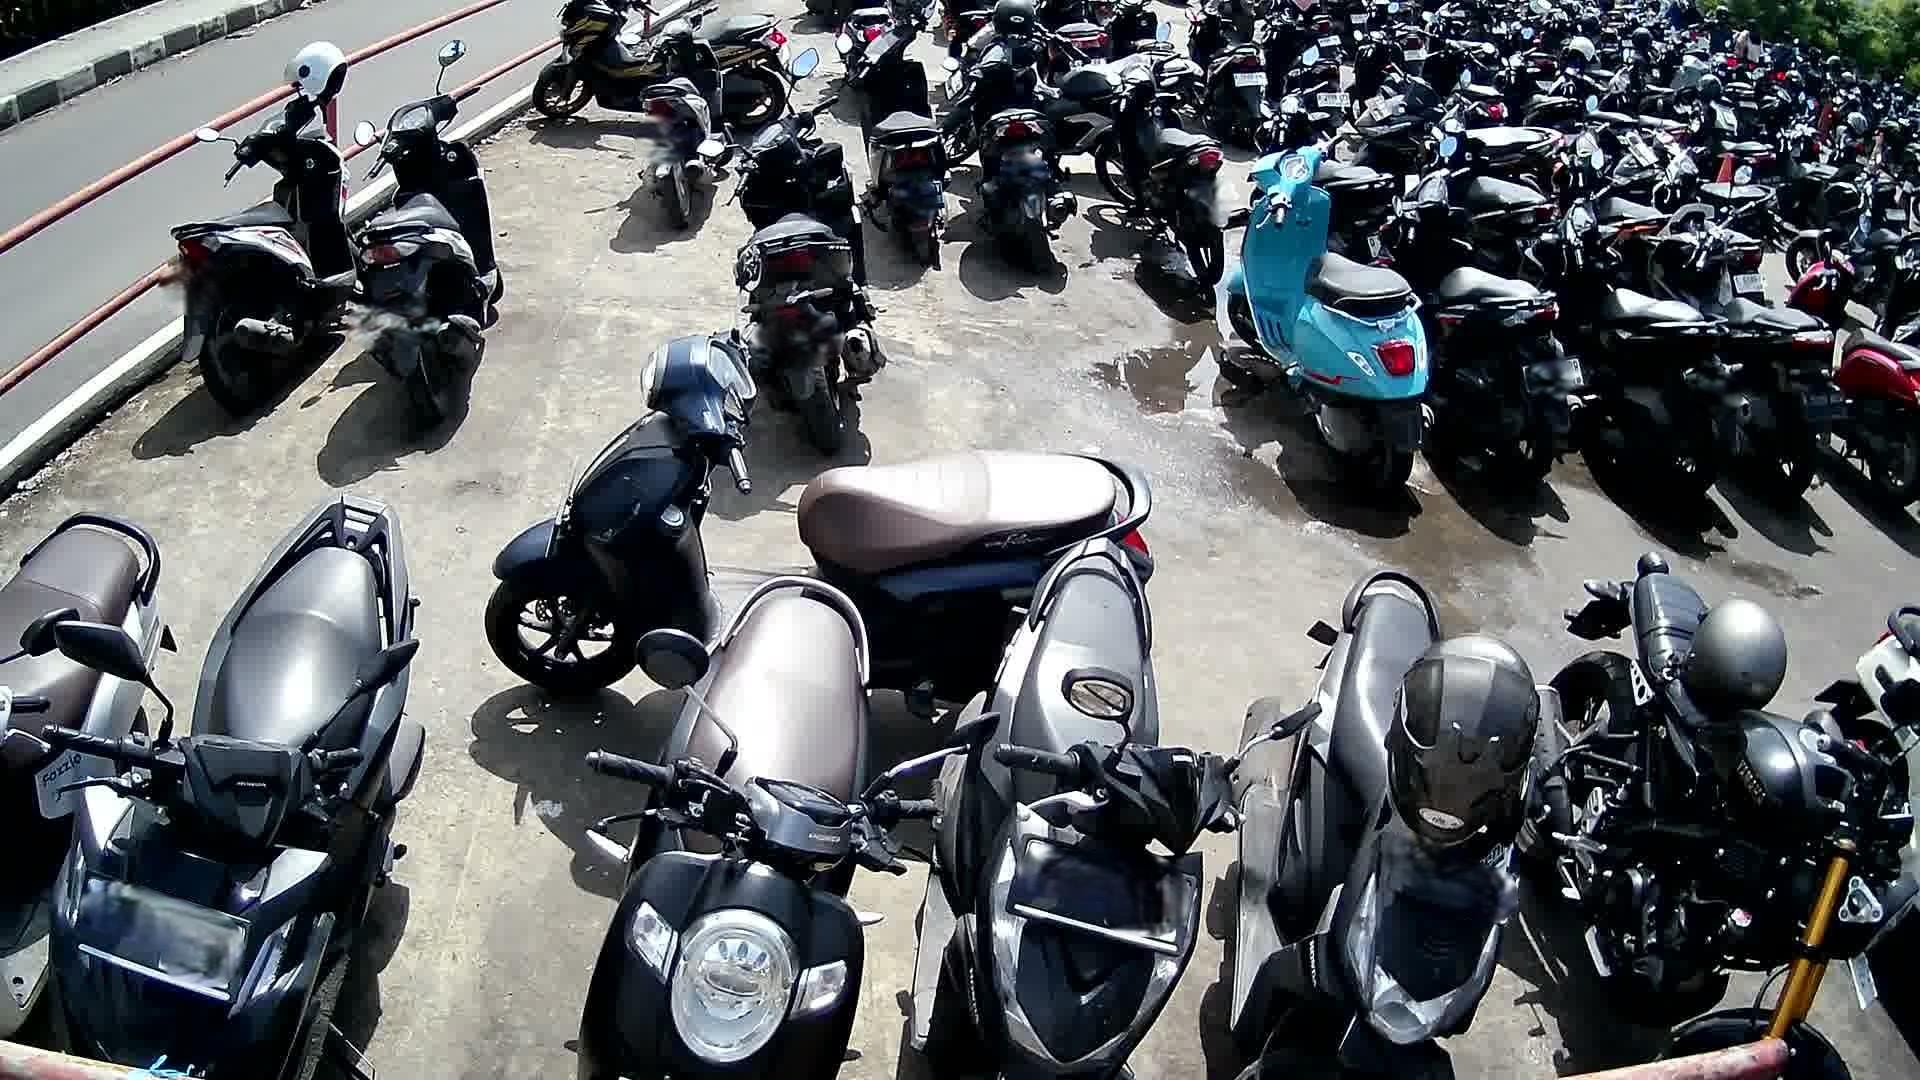motorcycle: (482, 285, 1157, 698), (43, 492, 430, 1080), (914, 539, 1292, 1080), (1538, 550, 1920, 1080), (580, 578, 968, 1080), (1228, 568, 1554, 1080), (0, 509, 182, 1042), (1224, 125, 1440, 503), (1376, 134, 1590, 497), (695, 48, 885, 455), (1516, 192, 1757, 504), (1631, 197, 1858, 509), (166, 87, 358, 419), (353, 37, 508, 431), (1781, 229, 1920, 506)
